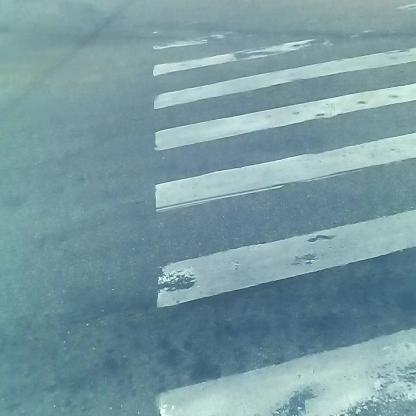crosswalk: (148, 32, 416, 407)
